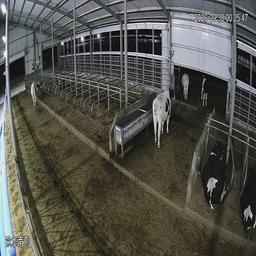cow: (200, 125, 231, 217), (148, 76, 177, 152), (241, 159, 255, 235), (199, 73, 215, 107), (27, 77, 41, 112), (181, 72, 192, 102)
